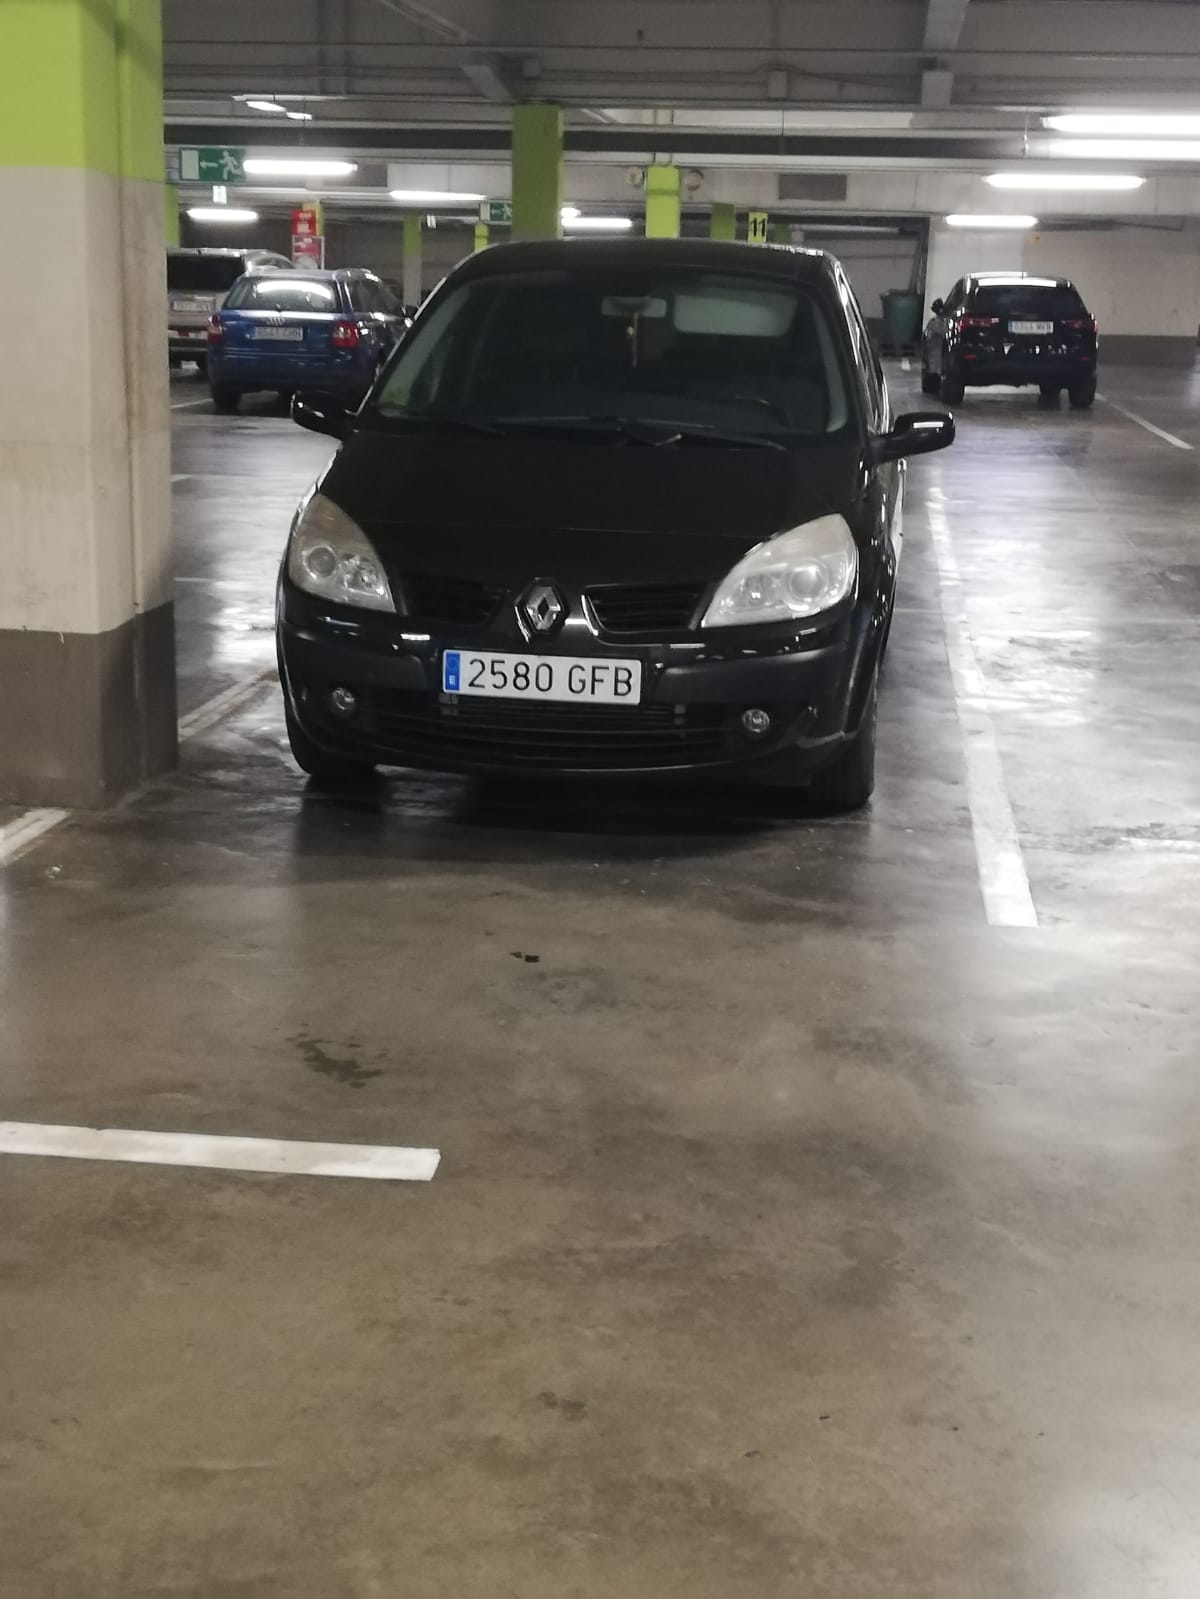Car: (277, 235, 922, 791)
Plate: (445, 646, 642, 694)
